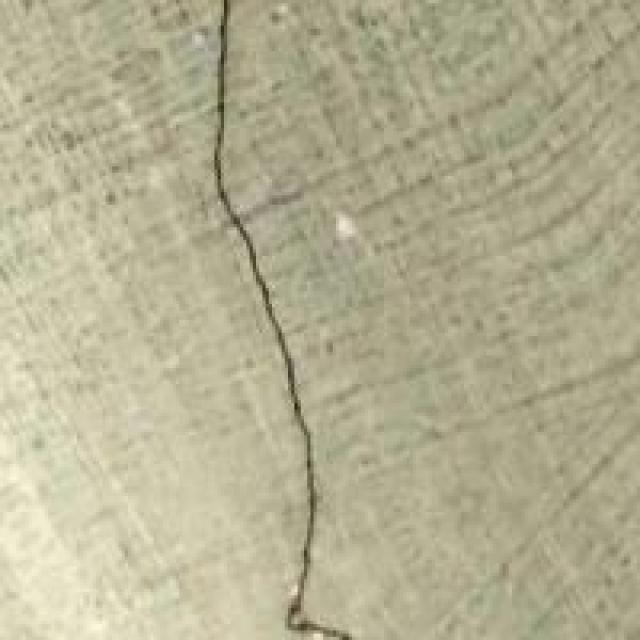crack: (150, 0, 432, 637)
